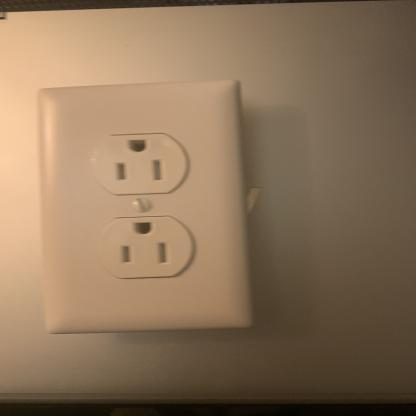OUTLET: (36, 84, 258, 332)
